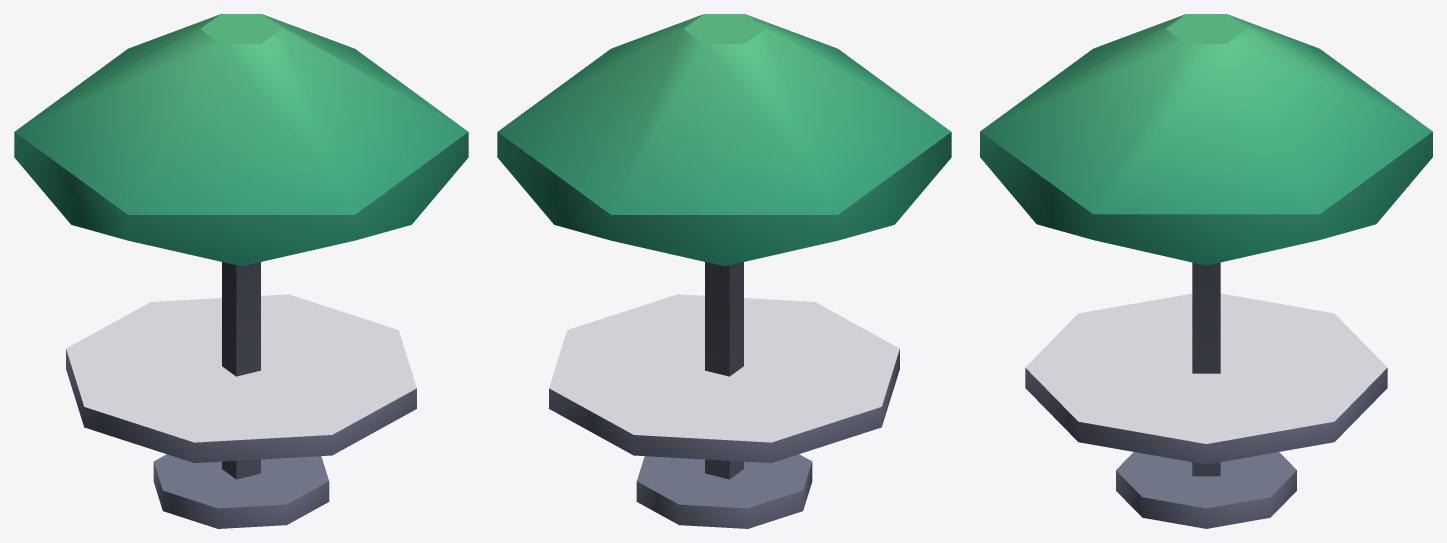
File: parasol_1.fbx
The picture shows the model from 3 angles, left to right: view 1: azimuth 30°, elevation 25°; view 2: azimuth 150°, elevation 25°; view 3: azimuth 270°, elevation 25°; orthographic projection.
Parts seen in each view (by area): view 1: parasol_1; view 2: parasol_1; view 3: parasol_1.
Boxes of the visible parts, x1,y1,x2,y2 form: parasol_1: (14, 14, 468, 528); parasol_1: (497, 14, 951, 528); parasol_1: (980, 14, 1432, 528).
Bounding box in the file's own units: 0.3464 × 0.45 × 0.4.
Materials: 1 (1 with a texture image).
